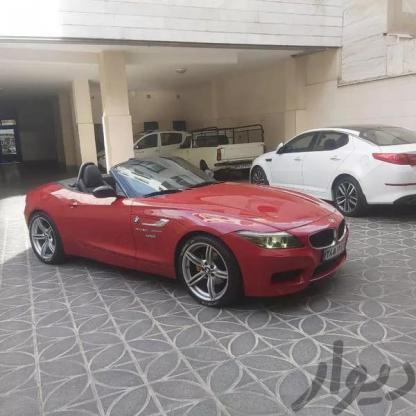Car: (8, 148, 356, 305), (263, 118, 416, 226), (183, 115, 264, 180), (124, 117, 185, 165)
